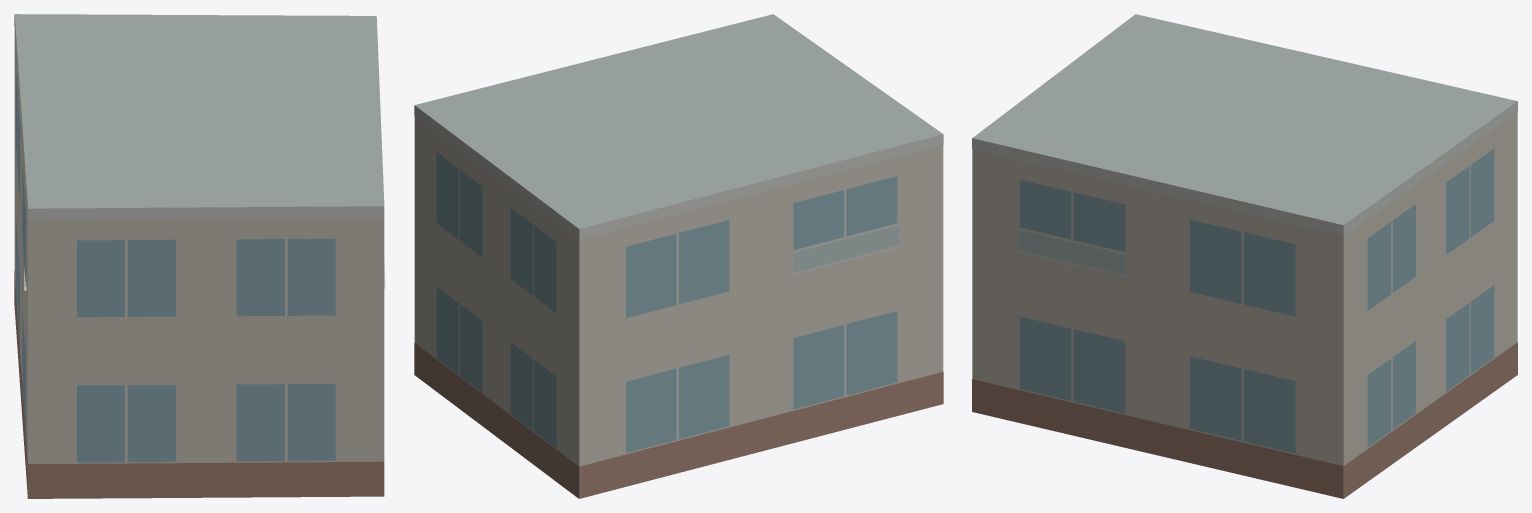
The model's file is survey-upis-32730538.glb.
3 views of the same model, side by side, from view 1: azimuth 30°, elevation 25°; view 2: azimuth 150°, elevation 25°; view 3: azimuth 270°, elevation 25° (orthographic). The views are drawn at different scales.
Parts seen in each view (by area): view 1: survey-upis-32730538.tmp; view 2: survey-upis-32730538.tmp; view 3: survey-upis-32730538.tmp.
Boxes of the visible parts, x1=… form: survey-upis-32730538.tmp: x1=14, y1=14, x2=385, y2=498; survey-upis-32730538.tmp: x1=414, y1=14, x2=943, y2=498; survey-upis-32730538.tmp: x1=972, y1=14, x2=1517, y2=498.
Bounding box in the file's own units: 10.1 × 6.1 × 11.03.
